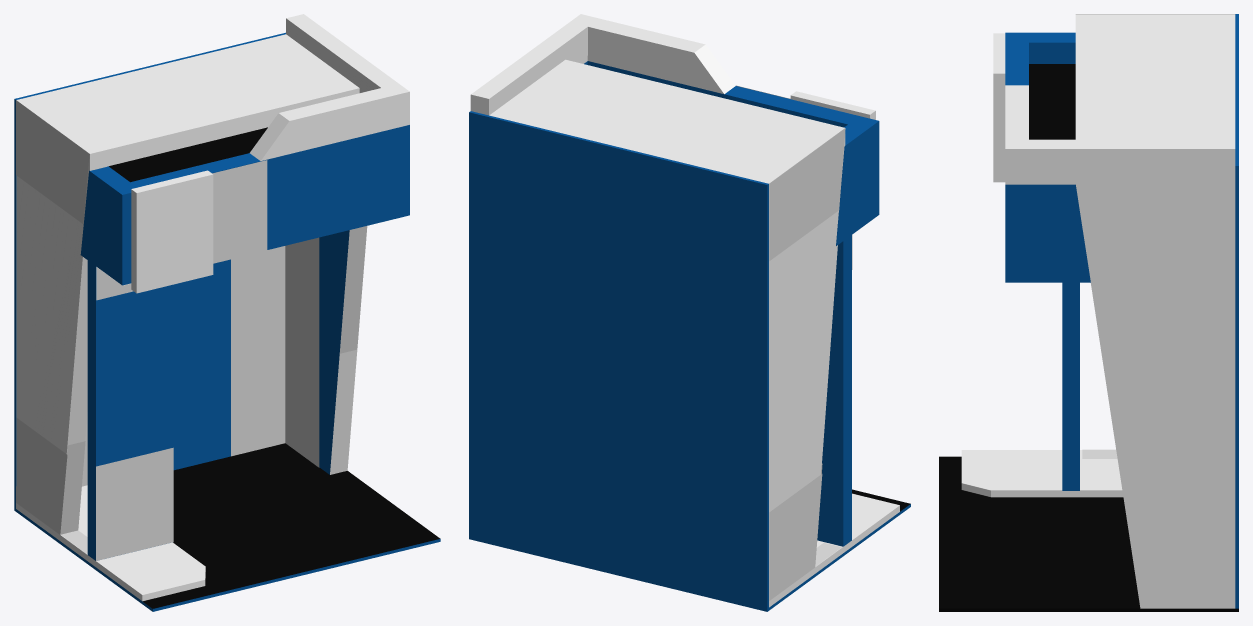
The model's file is Testonly.fbx.
3 renders of one model, left to right at view 1: azimuth 30°, elevation 25°; view 2: azimuth 150°, elevation 25°; view 3: azimuth 270°, elevation 25°, orthographic. The views are drawn at different scales.
Parts seen in each view (by area): view 1: SilverBooth02, SilverBooth02.002; view 2: SilverBooth02, SilverBooth02.002; view 3: SilverBooth02, SilverBooth02.002.
Part boxes in pixels (x1,y1,x2,y2): SilverBooth02: (14,14,440,611); SilverBooth02.002: (16,100,367,560); SilverBooth02: (469,14,910,611); SilverBooth02.002: (736,85,878,600); SilverBooth02: (939,14,1238,611); SilverBooth02.002: (1076,14,1234,458).
Size of the model in its own units: 3 by 4.26 by 2.5.
